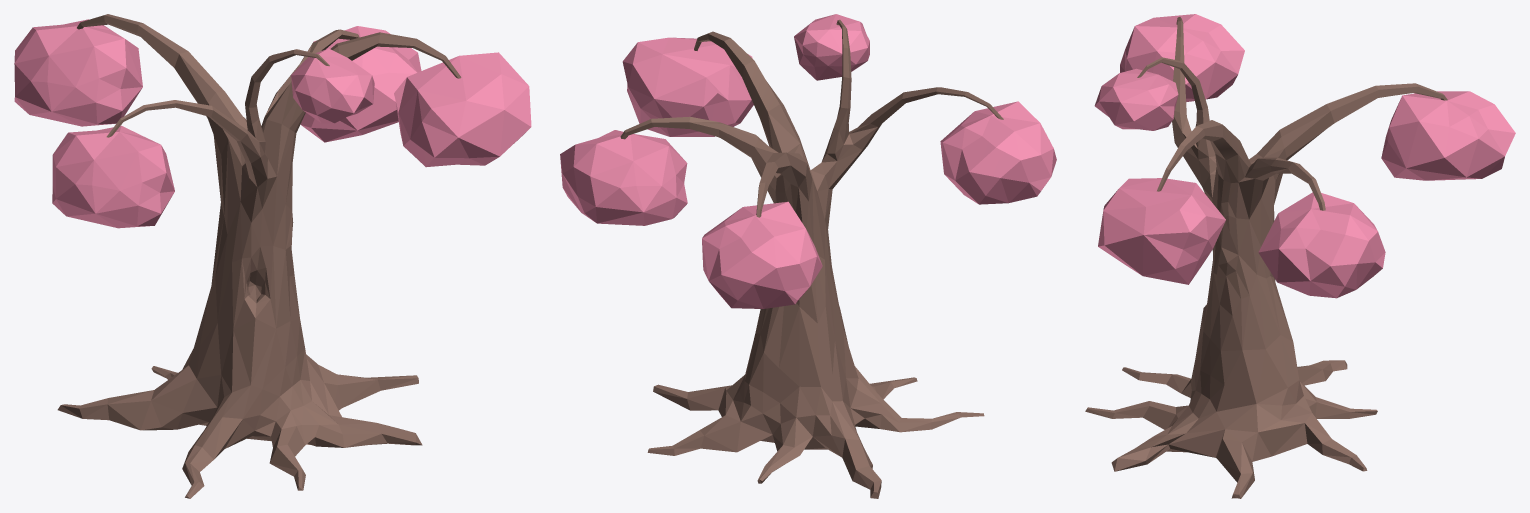
File: fantasy_plant_014.fbx
3 renders of one model, left to right at view 1: azimuth 30°, elevation 25°; view 2: azimuth 150°, elevation 25°; view 3: azimuth 270°, elevation 25°, orthographic. The views are drawn at different scales.
Visible parts, largest first — view 1: fantasy_plant.014; view 2: fantasy_plant.014; view 3: fantasy_plant.014.
Part boxes in pixels (left/top/right/bottom): fantasy_plant.014: left=14, top=14, right=531, bottom=498; fantasy_plant.014: left=560, top=14, right=1056, bottom=498; fantasy_plant.014: left=1085, top=14, right=1515, bottom=498.
Size of the model in its own units: 1646 by 1405 by 1462.
Materials: 1 (1 with a texture image).
